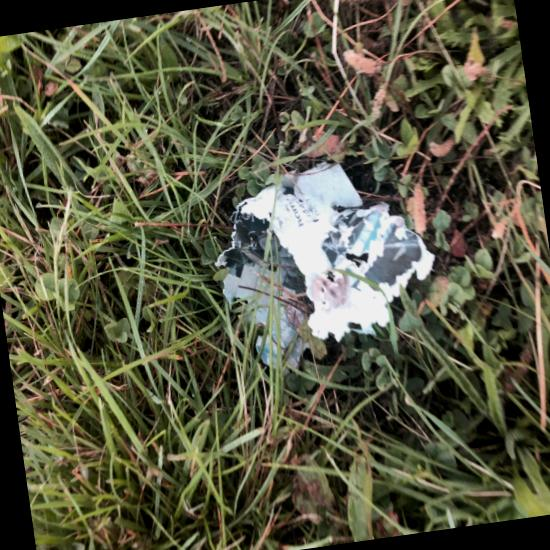Foam food container: (209, 195, 380, 350)
Other plastic bottle: (104, 146, 136, 154), (147, 169, 157, 192)
Unlabeled litter: (241, 114, 248, 127), (358, 86, 368, 92)
